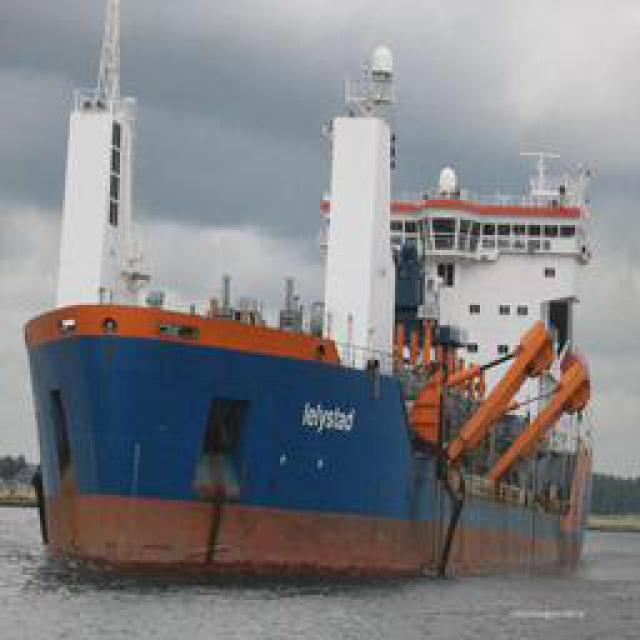Ship: (30, 200, 525, 583)
